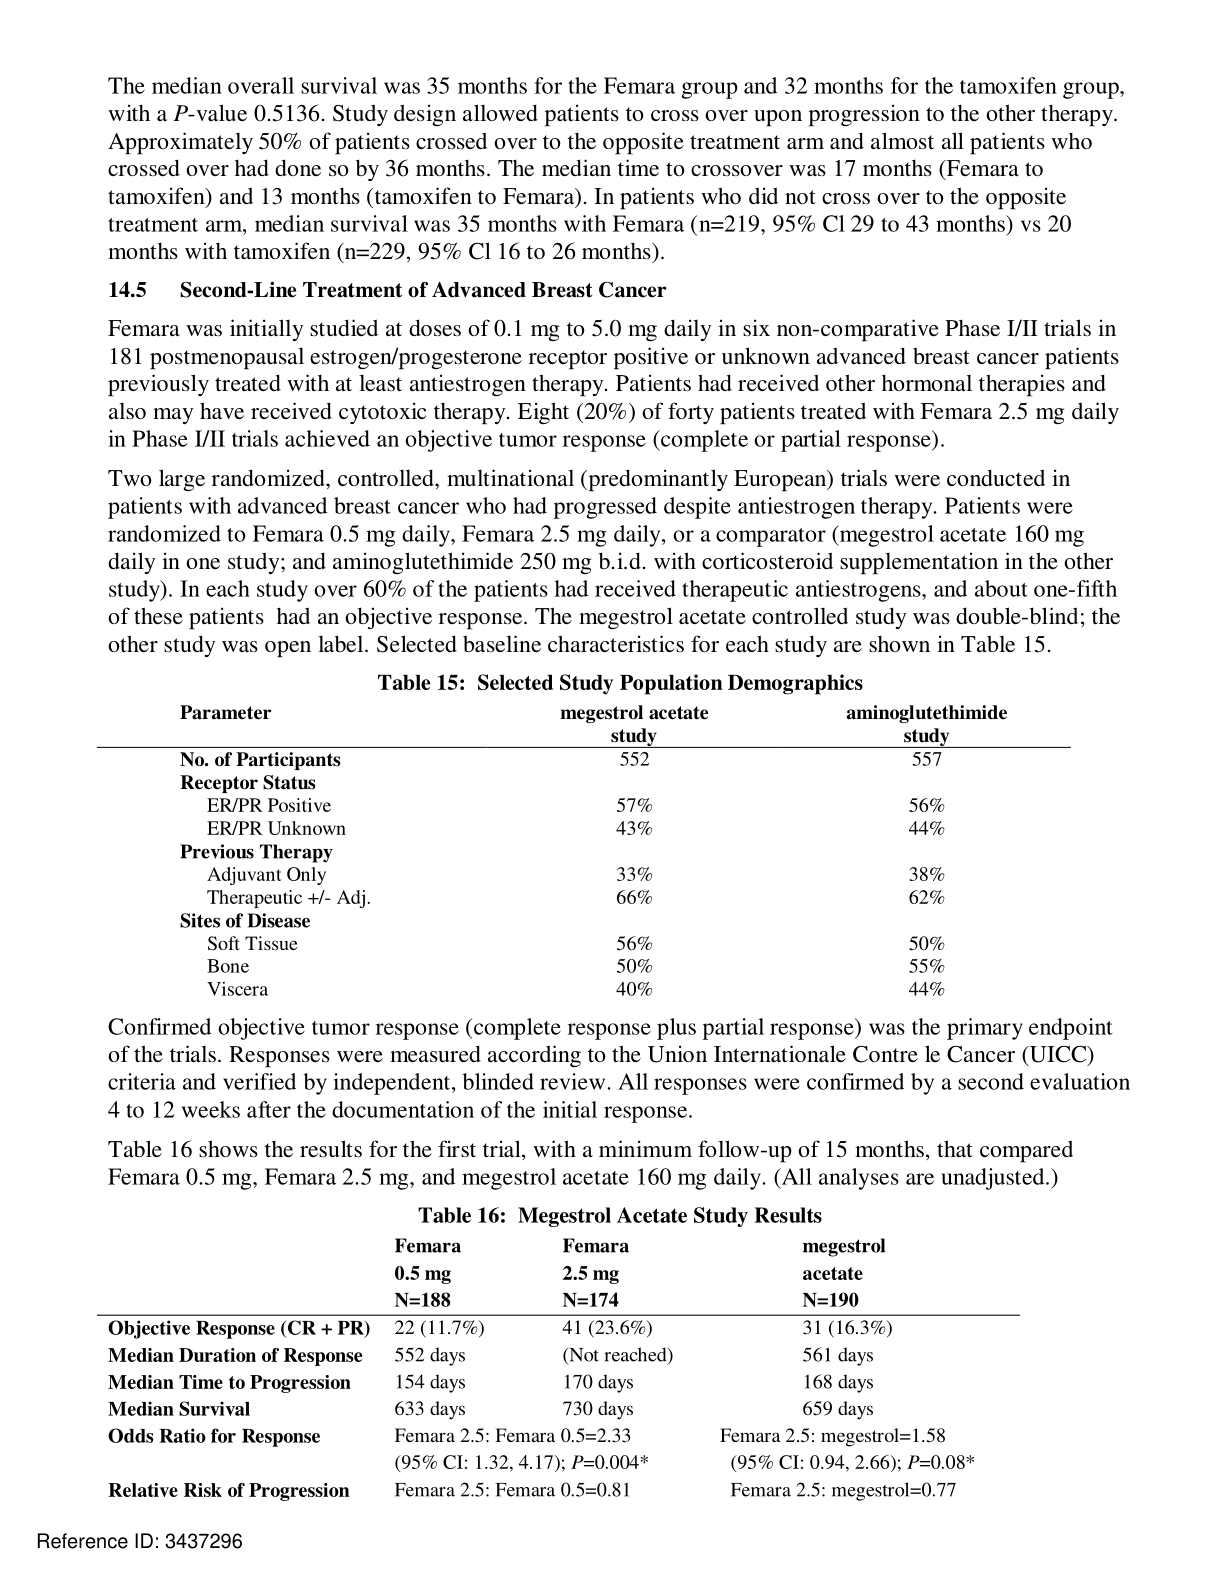partial_lined: (95, 699, 1072, 1000), (95, 1234, 1020, 1498)
